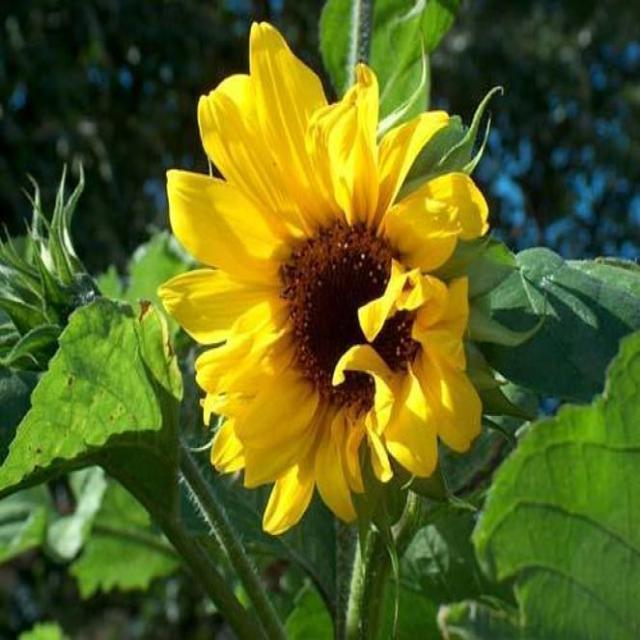sunflower: (154, 9, 498, 550)
